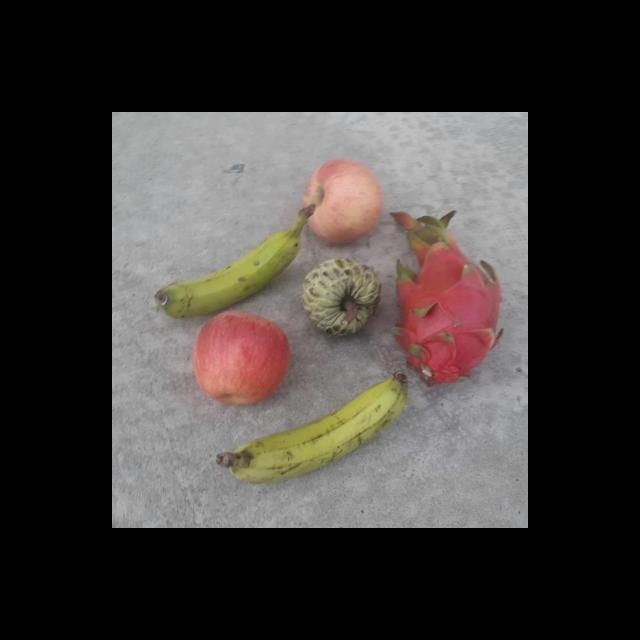Sakya fruit: (299, 256, 383, 340)
apple: (192, 310, 290, 406), (300, 159, 384, 246)
banana: (215, 371, 410, 484), (153, 205, 315, 318)
pitaya: (390, 210, 506, 388)
